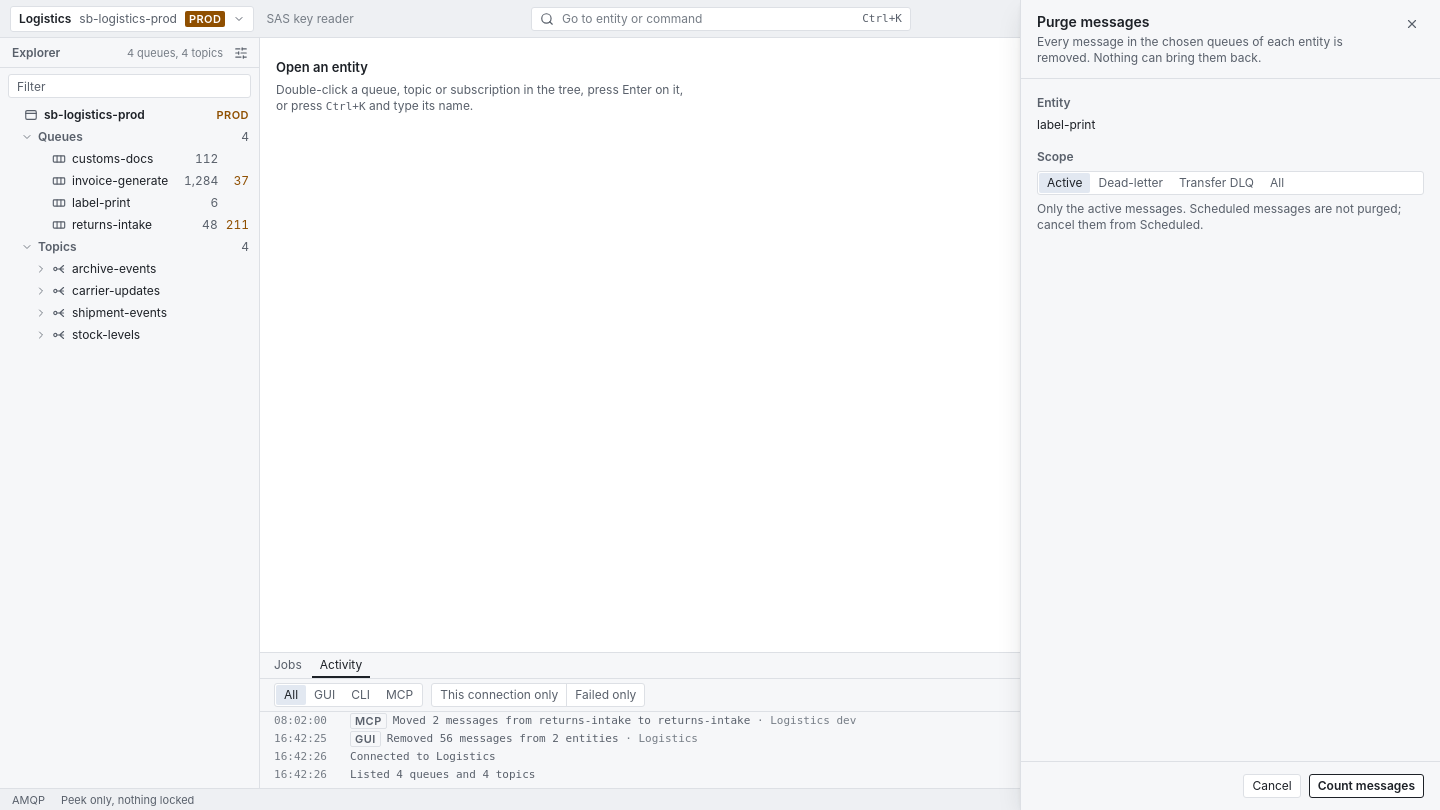
Scenario: PurgeSheet › AtLeast(0) deferred reads "an unknown number of deferred messages"
The width and height of the screenshot is (1440, 810).
(page scrolled)
Click the radio button labelled "All".
click(1277, 183)  # box 1262,173 -> 1292,193
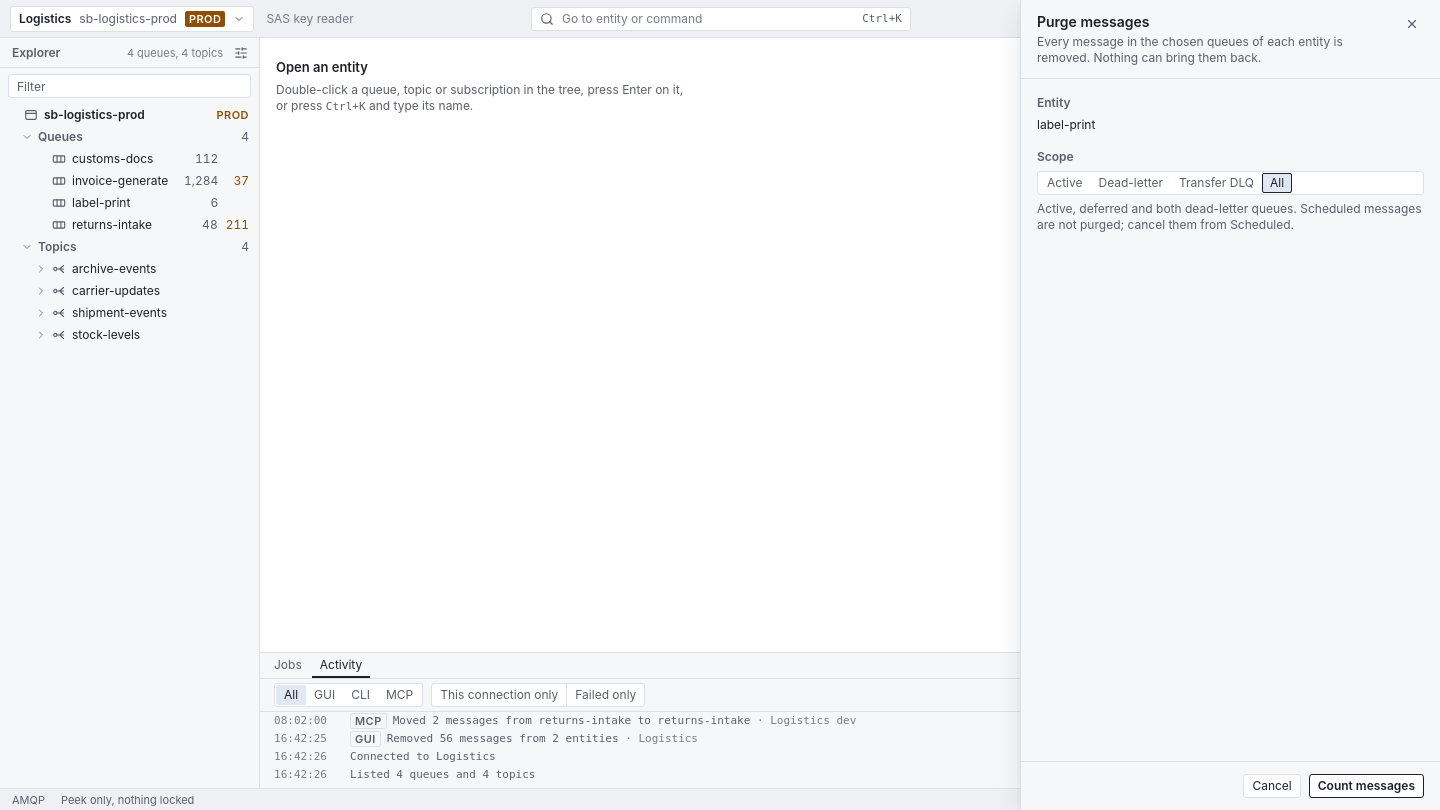
Click the button "Count messages".
click(1366, 786)  # box 1309,774 -> 1424,798
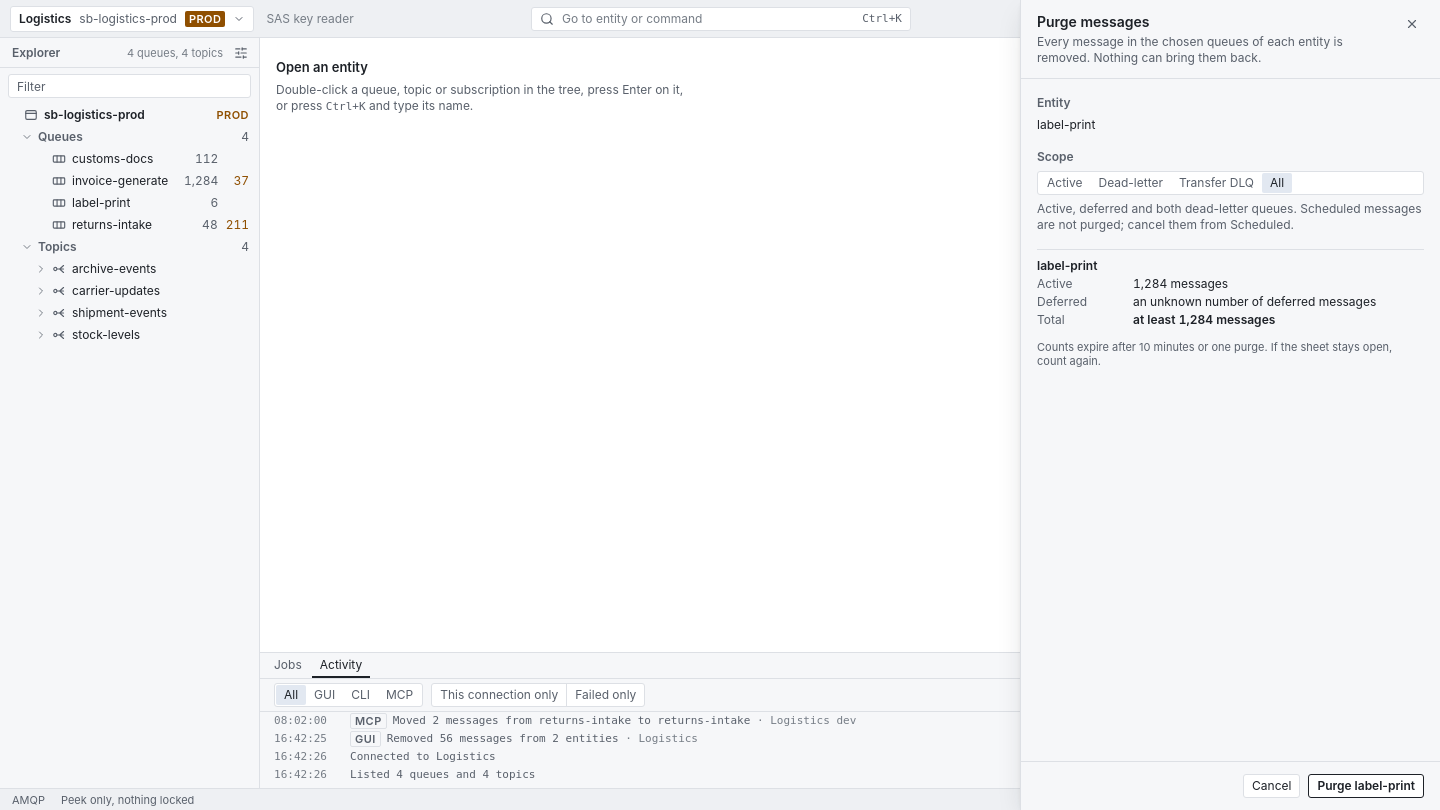
Check: the text "an unknown number of deferred messages" is shown, box 1133,294 -> 1376,309
Check: the text "at least 1,284 messages" is shown, box 1133,312 -> 1275,327
